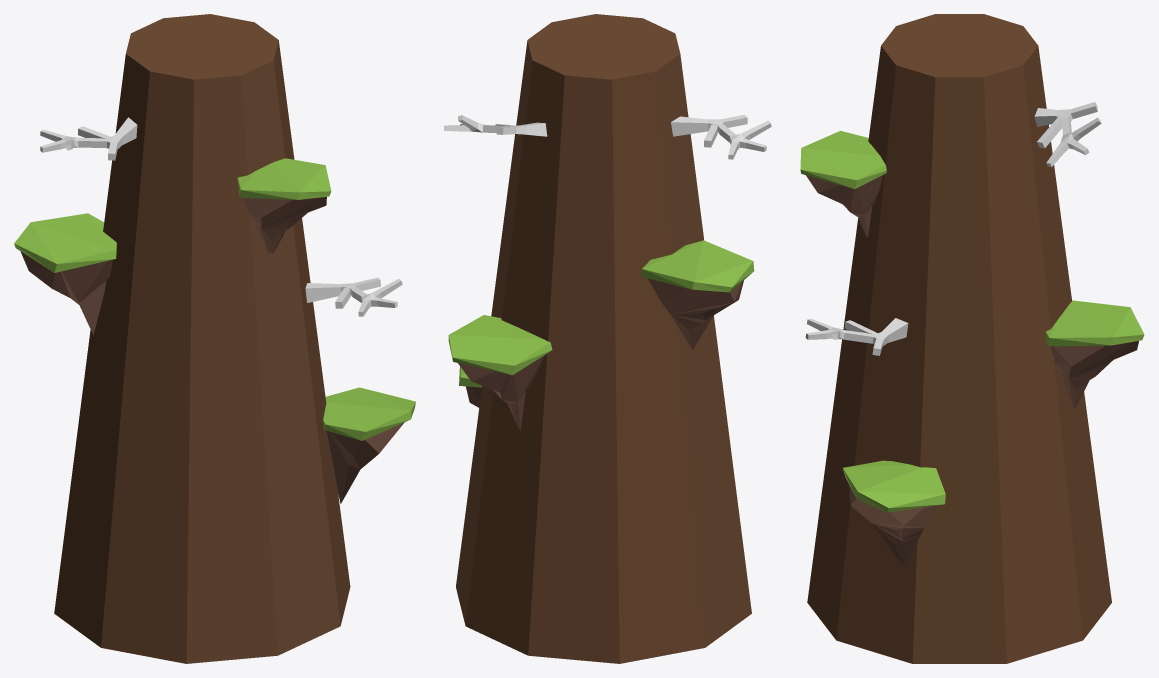
File: mencoba.fbx
3 renders of one model, left to right at view 1: azimuth 30°, elevation 25°; view 2: azimuth 150°, elevation 25°; view 3: azimuth 270°, elevation 25°, orthographic.
Visible parts, largest first — view 1: Cylinder, group1651290667.002, group1651290667, group1651290667.003, Cube.002, Cube; view 2: Cylinder, group1651290667.002, group1651290667.001, Cube, Cube.001; view 3: Cylinder, group1651290667, group1651290667.001, group1651290667.003, Cube.001, Cube.002.
Boxes of the visible parts, <box> form: Cylinder: <box>54,14,350,663</box>; group1651290667.002: <box>14,213,116,335</box>; group1651290667: <box>323,387,415,503</box>; group1651290667.003: <box>237,158,331,252</box>; Cube.002: <box>305,277,402,316</box>; Cube: <box>40,117,137,160</box>; Cylinder: <box>456,14,751,663</box>; group1651290667.002: <box>642,240,754,349</box>; group1651290667.001: <box>448,315,552,430</box>; Cube: <box>671,114,771,159</box>; Cube.001: <box>444,115,547,136</box>; Cylinder: <box>807,14,1111,663</box>; group1651290667: <box>843,460,945,567</box>; group1651290667.001: <box>1045,300,1144,409</box>; group1651290667.003: <box>800,131,886,237</box>; Cube.001: <box>1034,102,1101,167</box>; Cube.002: <box>805,318,908,355</box>.
Bounding box in the file's own units: 2543 × 3960 × 2216.
